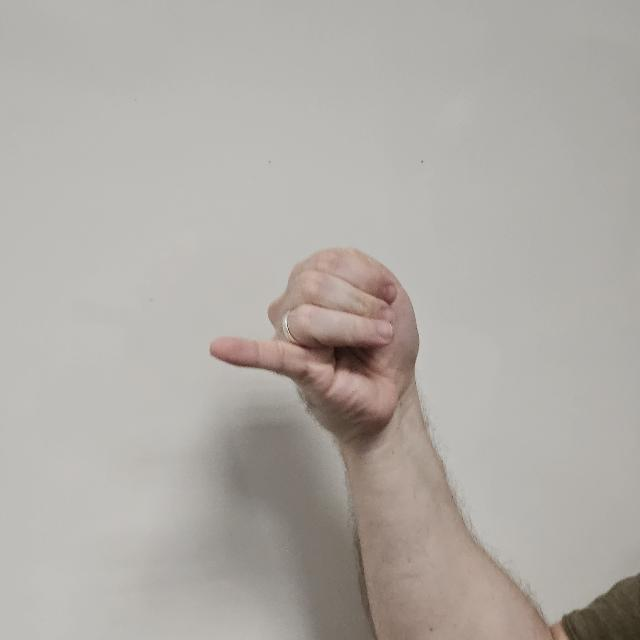Esquerda: (207, 222, 448, 492)
